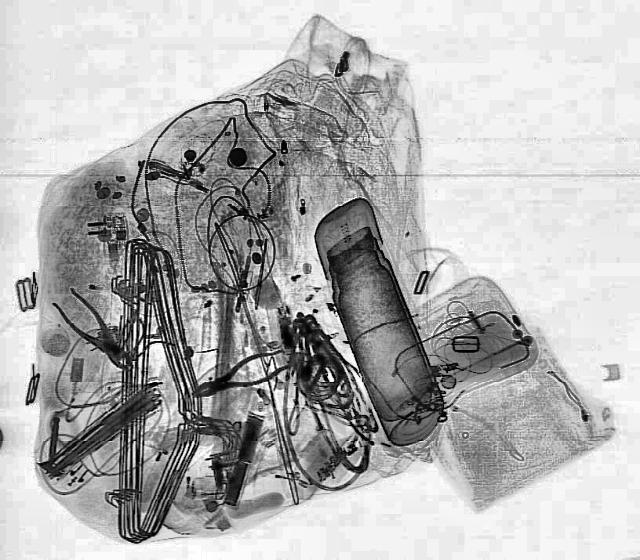Pliers: (45, 286, 143, 378), (182, 344, 296, 408)
